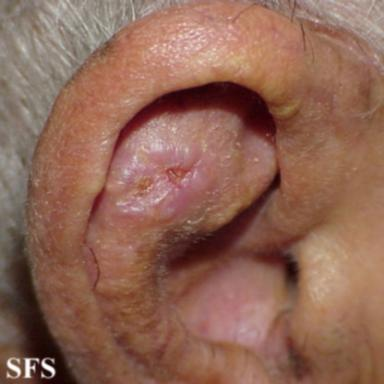basal-cell-carcinoma: (103, 138, 214, 226)
